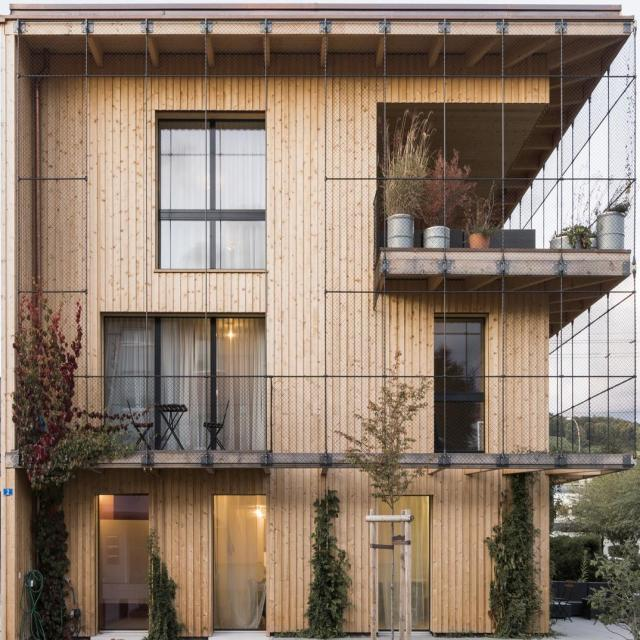door: (377, 495, 434, 630), (212, 496, 264, 632), (98, 494, 149, 631)
plant: (11, 278, 150, 634), (335, 360, 438, 639), (333, 350, 436, 513), (550, 473, 639, 639), (485, 473, 542, 634), (304, 488, 350, 638), (144, 529, 186, 639)
wall: (0, 0, 635, 640)
windows: (102, 313, 266, 450), (155, 118, 263, 269), (431, 322, 484, 451)
